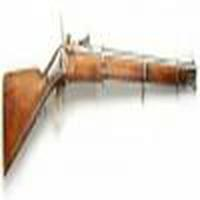gun: (1, 40, 200, 171)
